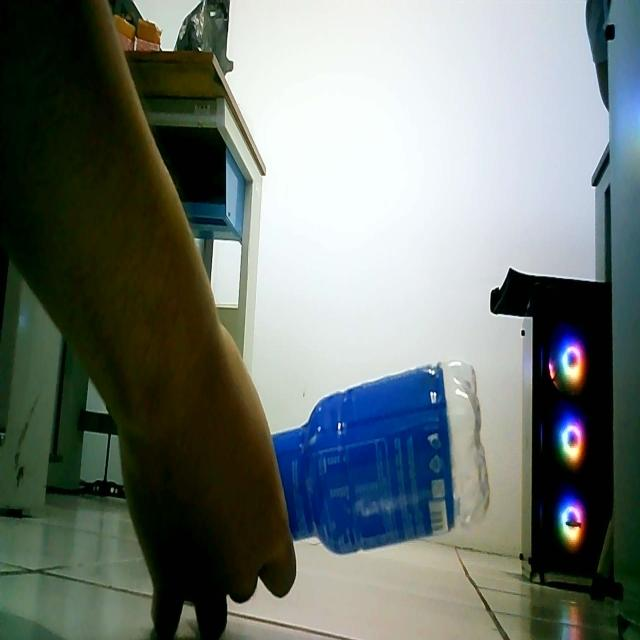botol: (234, 355, 517, 577)
